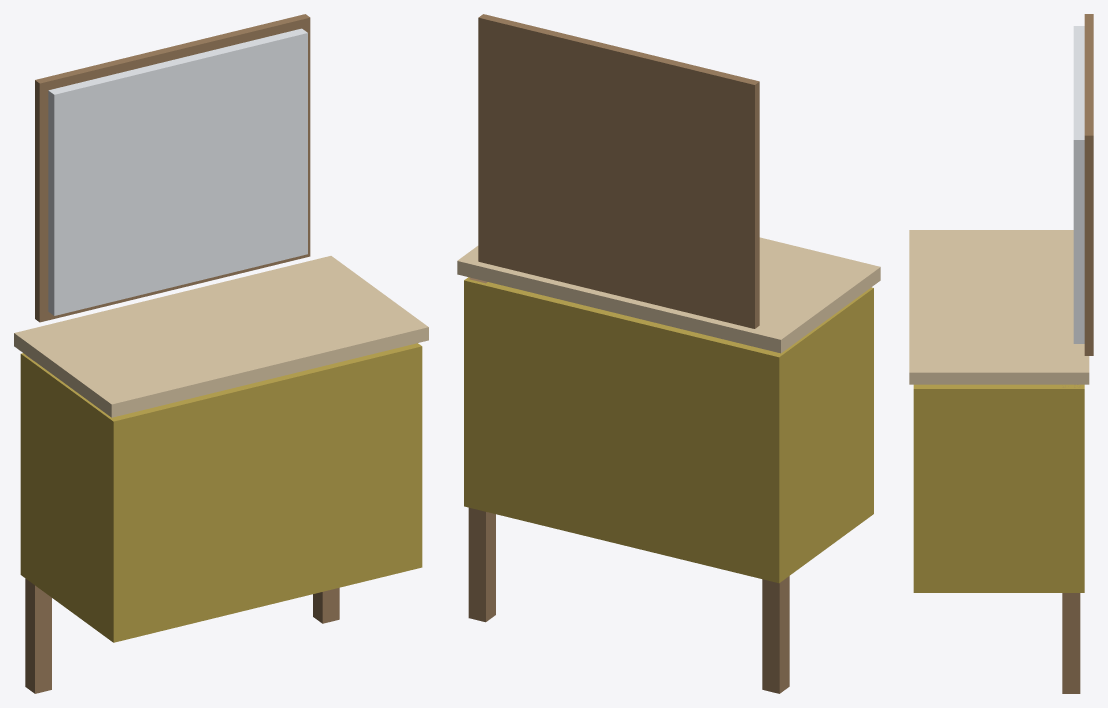
File: dresser.glb
3 renders of one model, left to right at view 1: azimuth 30°, elevation 25°; view 2: azimuth 150°, elevation 25°; view 3: azimuth 270°, elevation 25°, orthographic. The views are drawn at different scales.
Parts seen in each view (by area): view 1: drawers, mirror, top, mirror_frame, legs; view 2: drawers, mirror_frame, top, legs; view 3: drawers, top, mirror, mirror_frame, legs.
Boxes of the visible parts, x1=… form: drawers: x1=20, y1=343, x2=422, y2=642; mirror: x1=48, y1=28, x2=307, y2=315; top: x1=14, y1=256, x2=428, y2=417; mirror_frame: x1=35, y1=14, x2=310, y2=322; legs: x1=25, y1=355, x2=339, y2=693; drawers: x1=464, y1=277, x2=873, y2=583; mirror_frame: x1=478, y1=14, x2=759, y2=328; top: x1=457, y1=237, x2=880, y2=353; legs: x1=468, y1=277, x2=789, y2=693; drawers: x1=913, y1=384, x2=1084, y2=592; top: x1=909, y1=230, x2=1089, y2=384; mirror: x1=1073, y1=26, x2=1084, y2=343; mirror_frame: x1=1084, y1=14, x2=1093, y2=355; legs: x1=1062, y1=384, x2=1080, y2=693.
Size of the model in its own units: 0.75 by 1.35 by 0.41.
